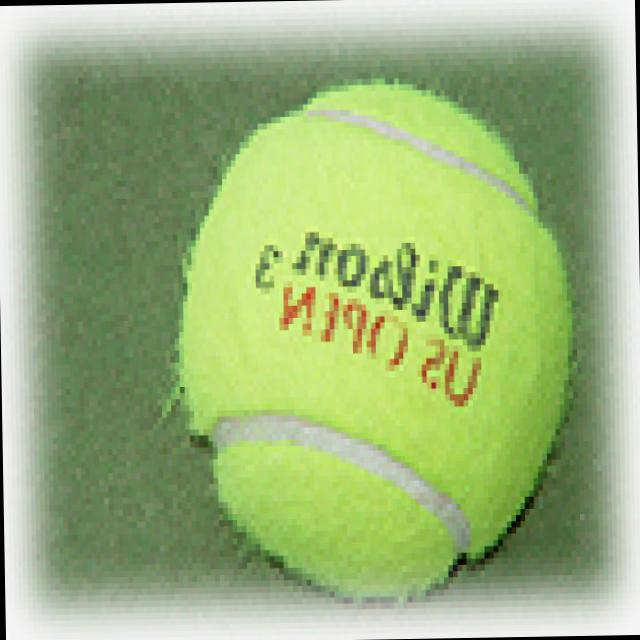Tennis Ball: (175, 79, 577, 608)
